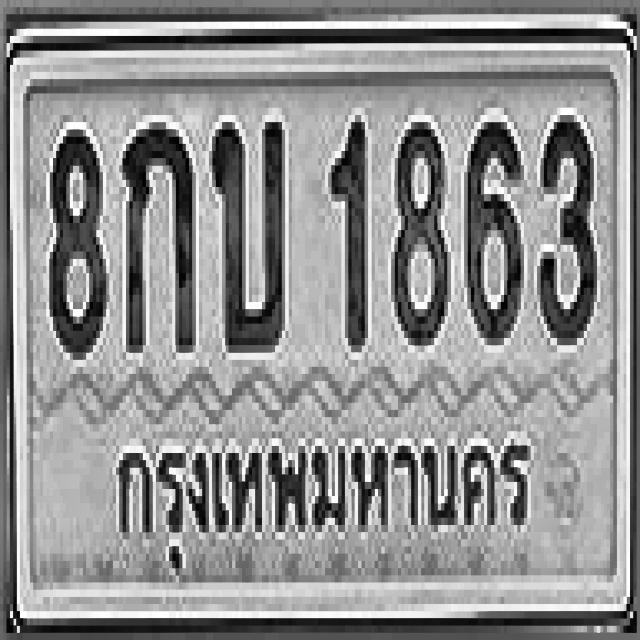license-plate: (10, 44, 629, 624)
